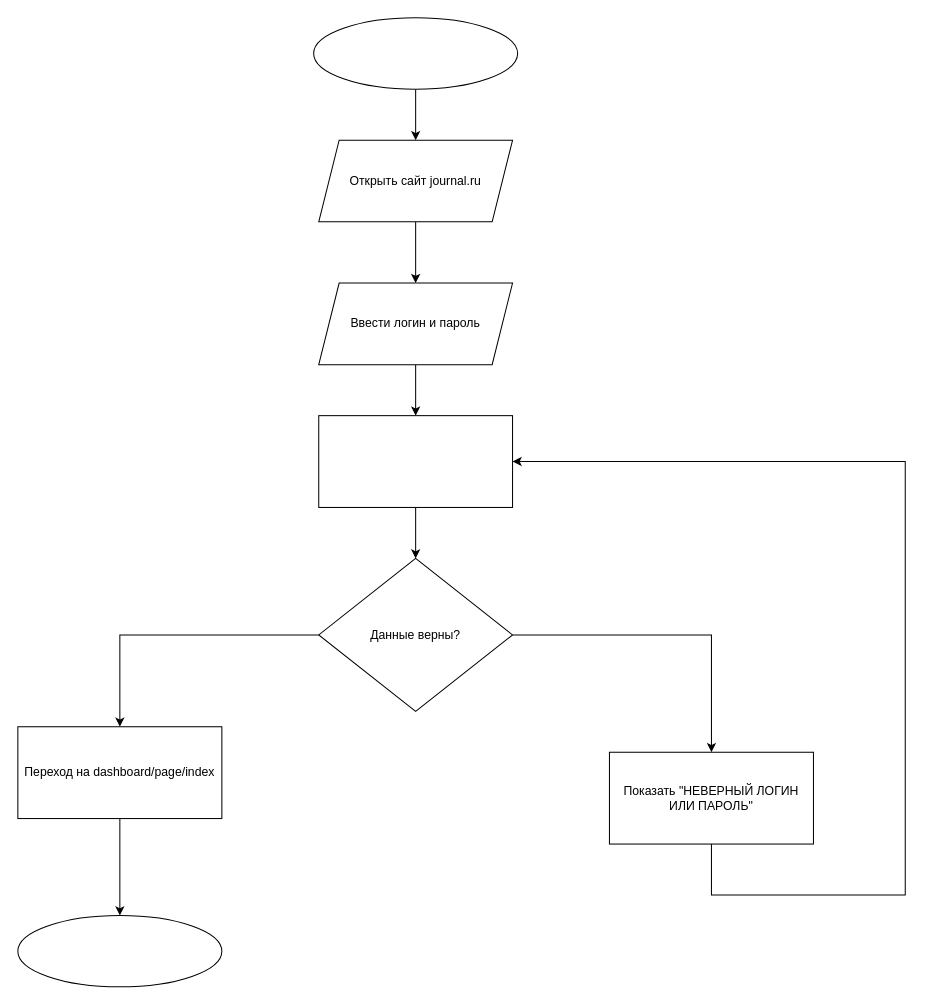
This 931x1005 diagram has some shape labels left out. The centre of each missing label's shape, as x and y in pixels:
Конец: [119,950]
Нажать "Войти": [415,461]
Начало: [415,53]
